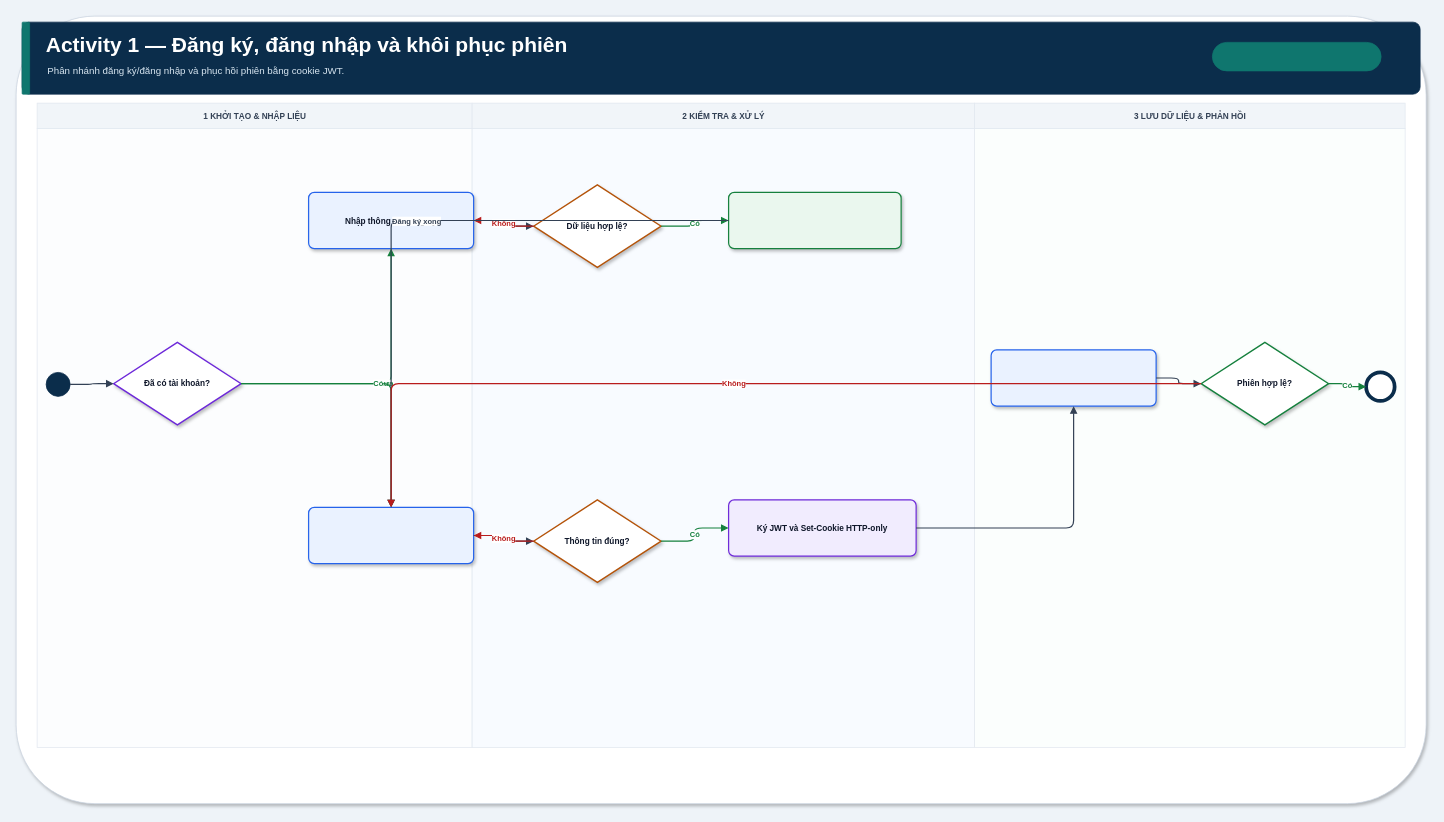
The diagram is 1444 pixels wide and 822 high, and some of its shapes have lost their labels. The shapes that lost their labels are listed below. From the top down, each one's centre as x and y in pixels, then its label:
point (1296, 56): ACTIVITY DIAGRAM
point (815, 221): Băm mật khẩu và tạo User
point (1074, 379): AuthContext gọi /api/me
point (391, 536): Nhập tài khoản/mật khẩu
